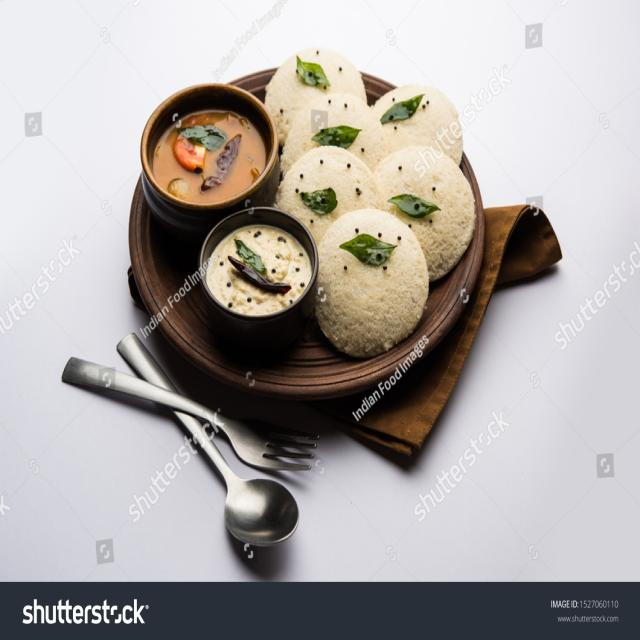IDLI: (315, 209, 429, 357), (374, 147, 475, 280), (265, 48, 367, 145), (276, 147, 379, 242), (281, 94, 386, 174), (370, 85, 463, 164)
